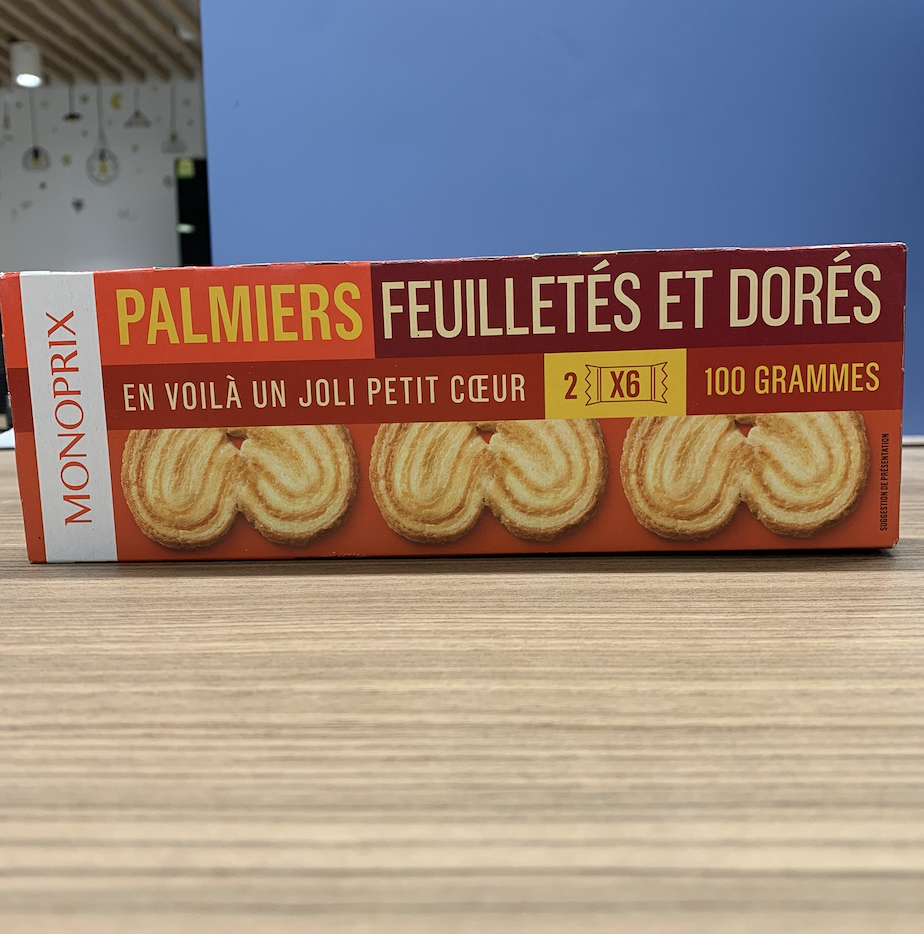cookies_100g-199g: (26, 271, 891, 554)
